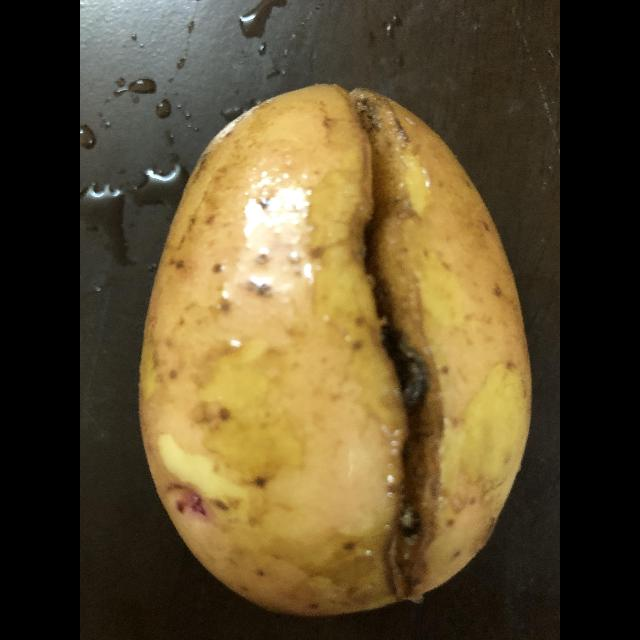Damaged potato: (146, 84, 528, 616)
